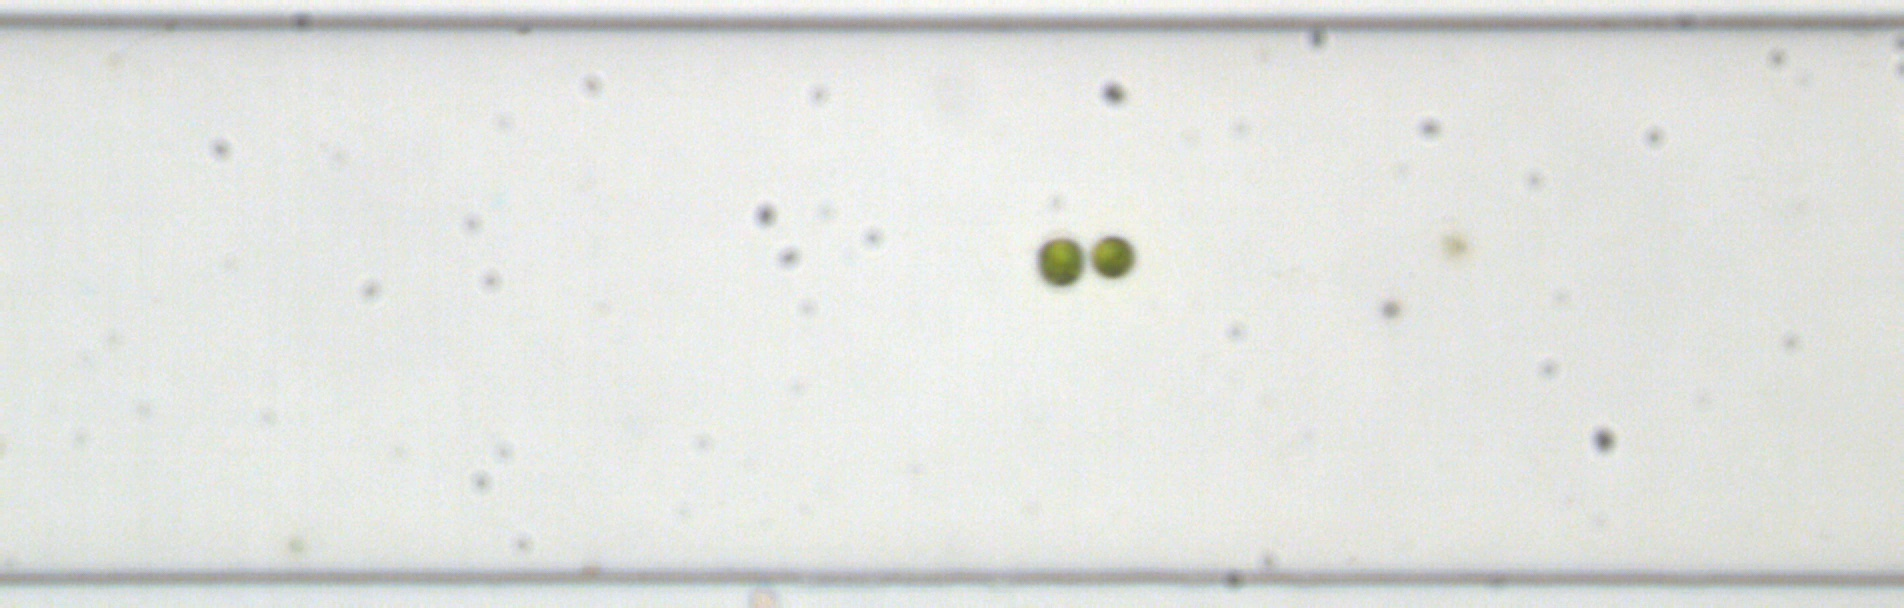Chlorella: (1443, 231, 1464, 255), (285, 535, 306, 555)
Platymonas: (1087, 231, 1137, 280), (1035, 235, 1083, 286)
